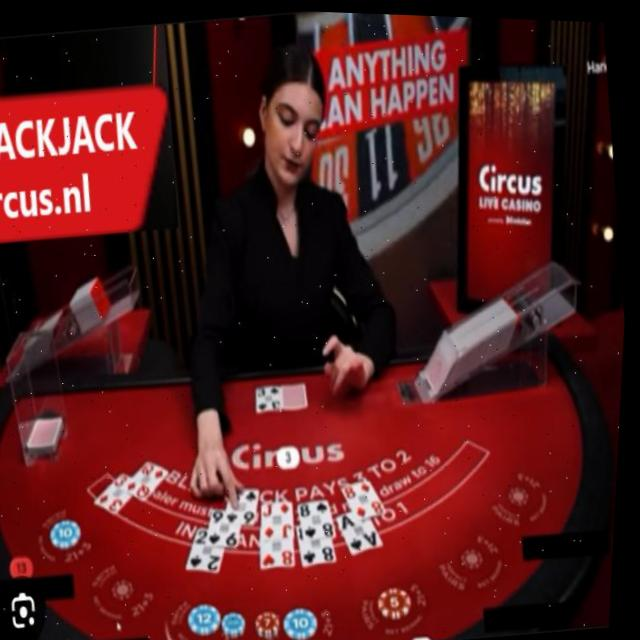Card-2: (192, 523, 229, 570)
Card-3: (98, 470, 137, 513), (260, 383, 286, 410)
Card-6: (231, 485, 265, 523)
Card-8: (347, 476, 391, 517), (301, 522, 342, 563), (303, 497, 340, 535), (267, 534, 301, 565)
Card-9: (212, 507, 244, 547)
Card-A: (342, 508, 389, 553)
Card-J: (267, 500, 299, 533)
Card-Q: (129, 459, 173, 500)
